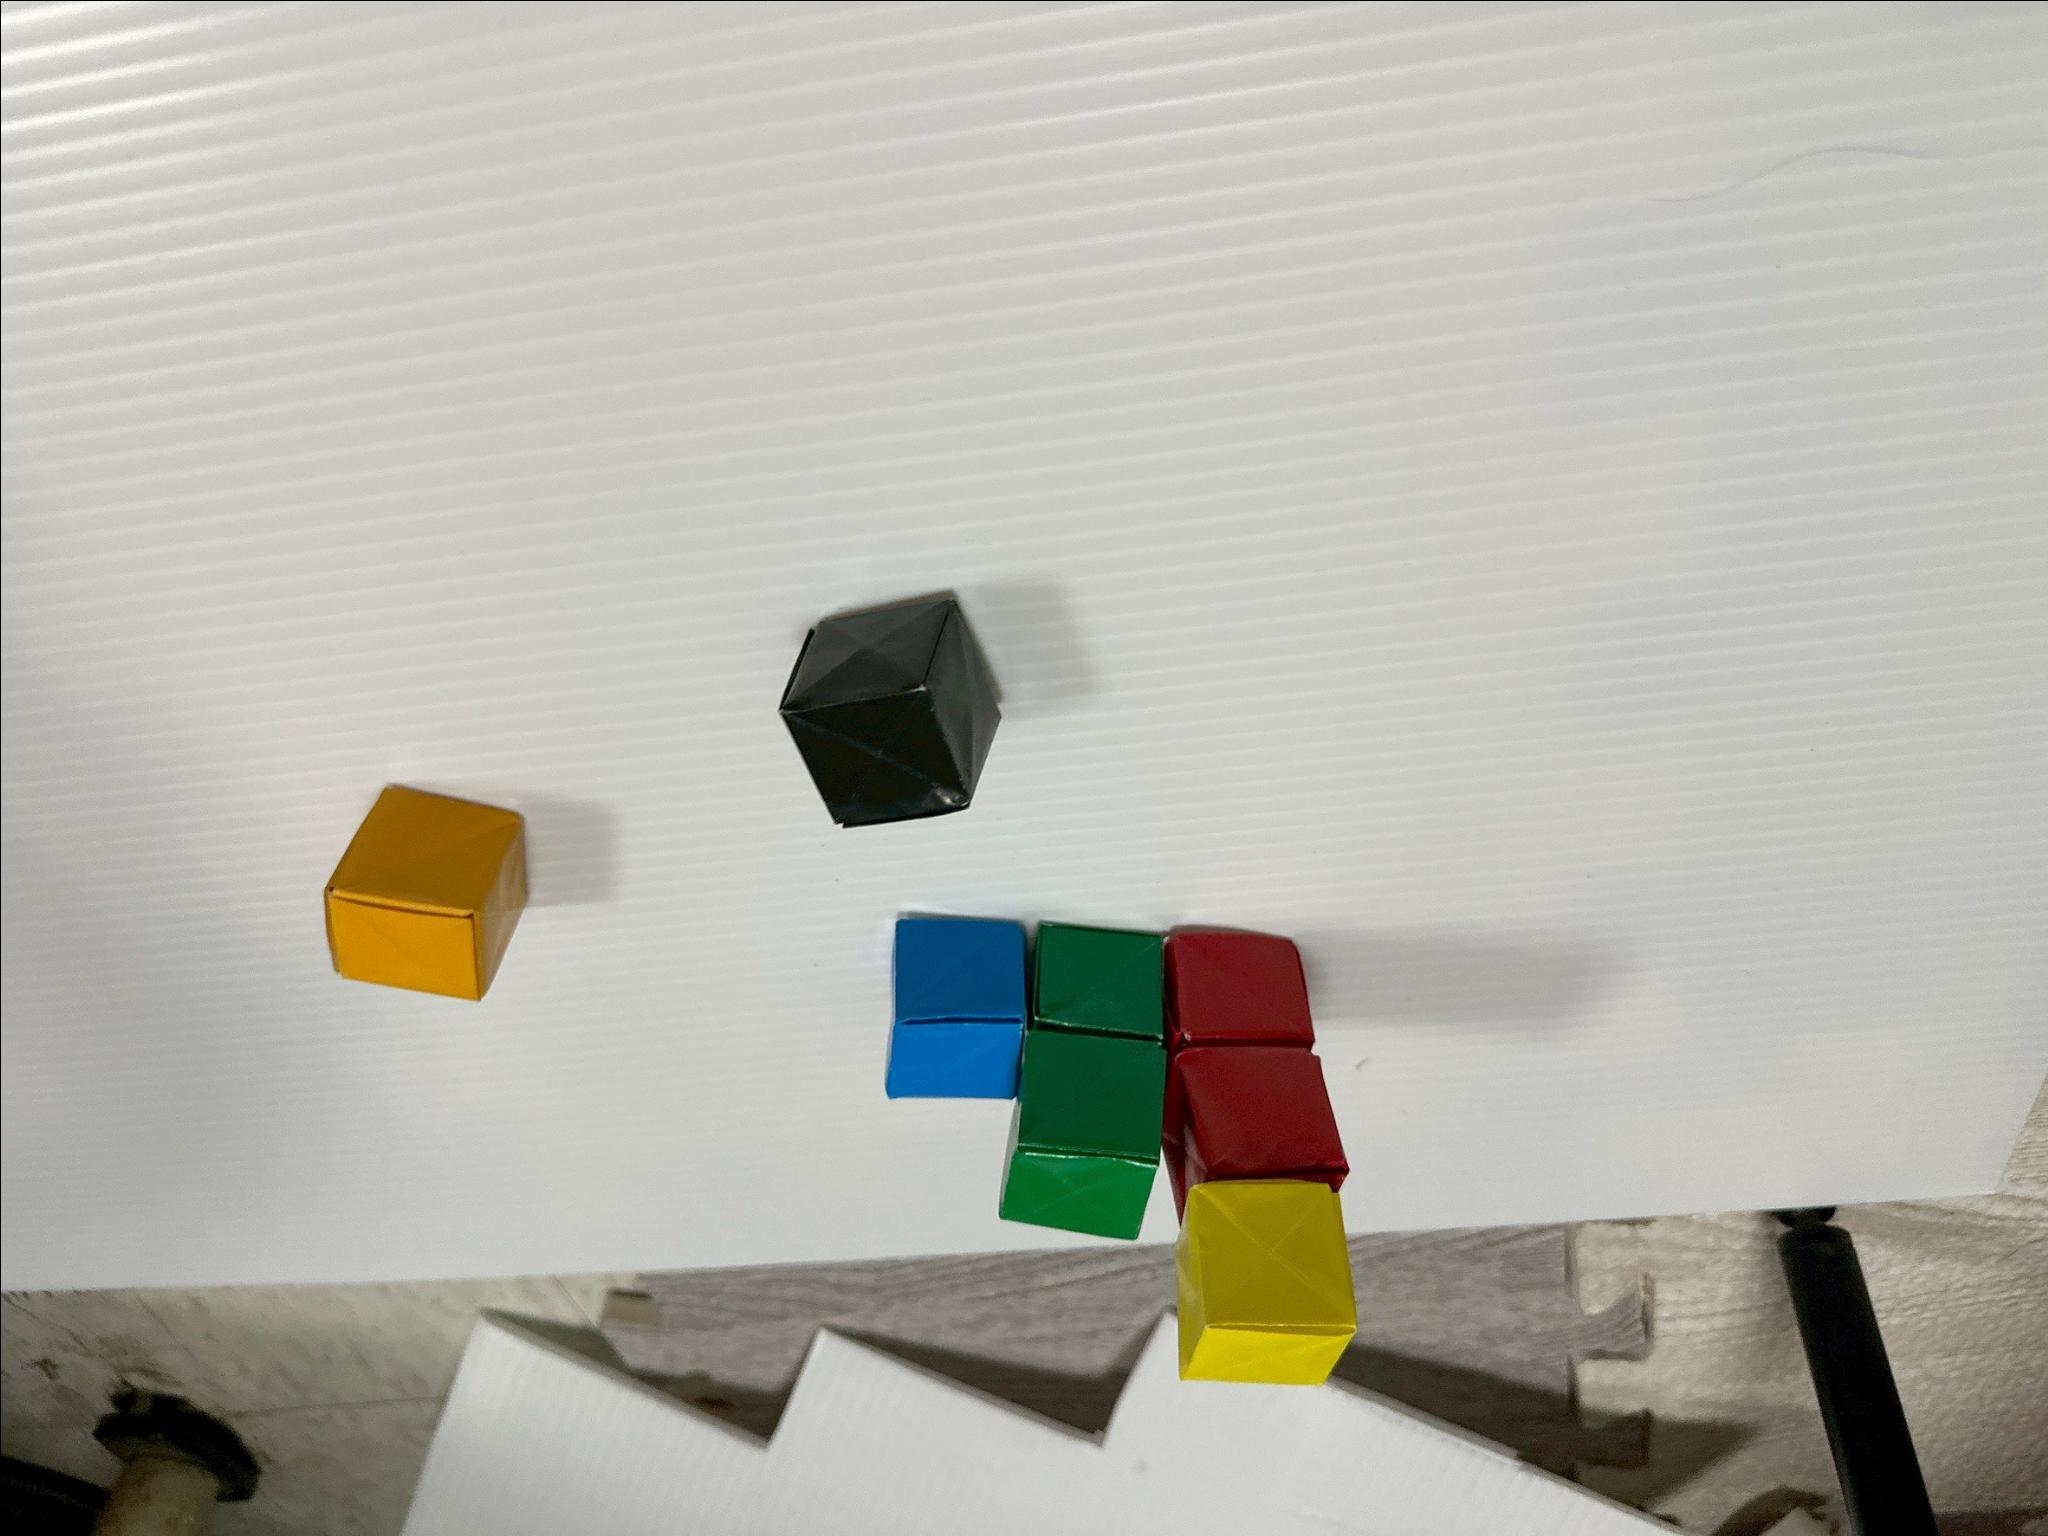cube: (779, 595, 1000, 824), (326, 787, 526, 1000), (1176, 1179, 1355, 1384), (998, 1028, 1164, 1239), (1161, 1042, 1347, 1218), (885, 916, 1026, 1099), (1163, 931, 1313, 1049)
